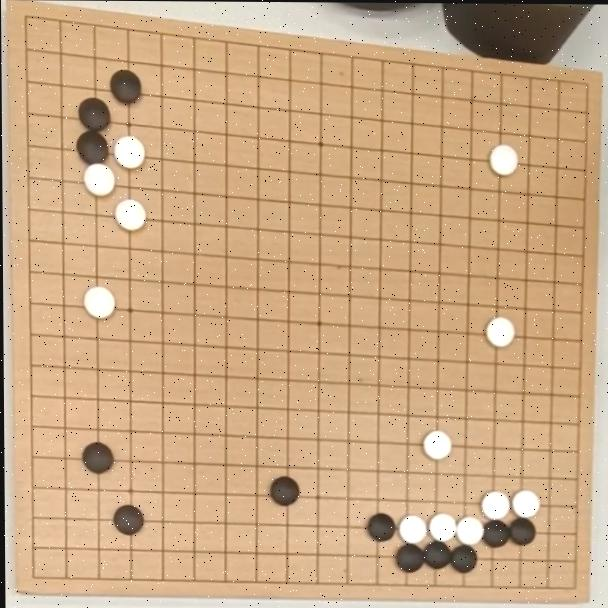corners: (15, 557, 63, 591), (15, 6, 57, 39), (566, 71, 603, 103), (555, 569, 588, 600)
